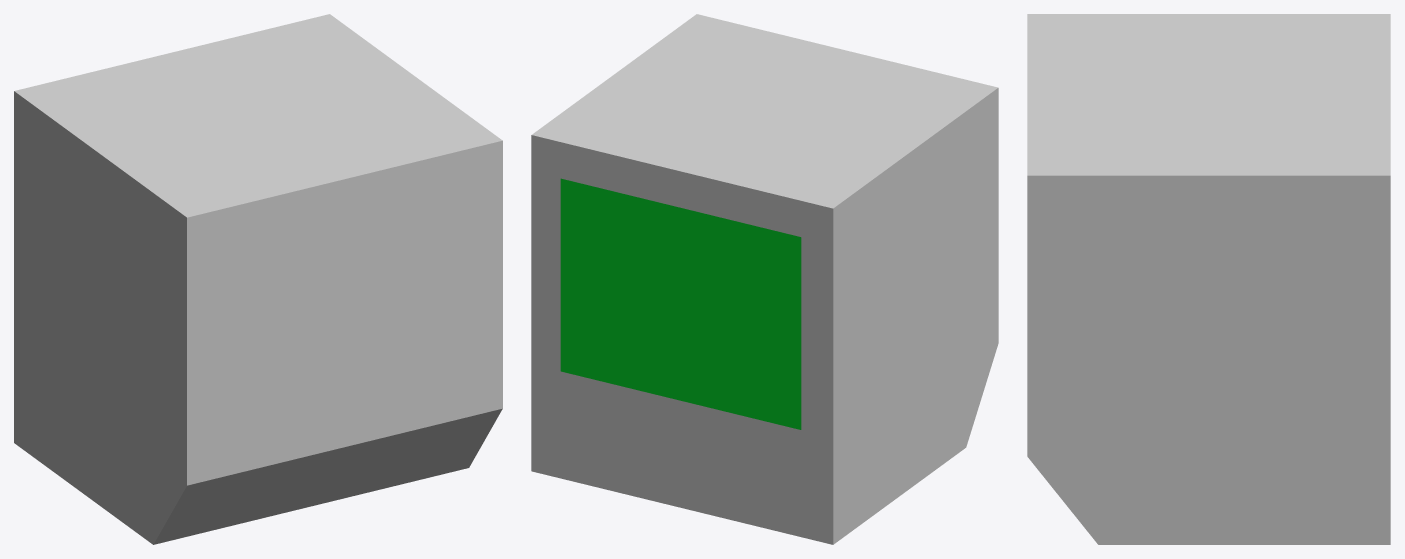
3 renders of one model, left to right at view 1: azimuth 30°, elevation 25°; view 2: azimuth 150°, elevation 25°; view 3: azimuth 270°, elevation 25°, orthographic. The views are drawn at different scales.
Visible parts, largest first — view 1: Cube.171; view 2: Cube.171; view 3: Cube.171.
Part boxes in pixels (x1=…): Cube.171: x1=14, y1=14, x2=502, y2=544; Cube.171: x1=531, y1=14, x2=998, y2=544; Cube.171: x1=1027, y1=14, x2=1390, y2=544.
Bounding box in the file's own units: 110 × 118 × 105.
